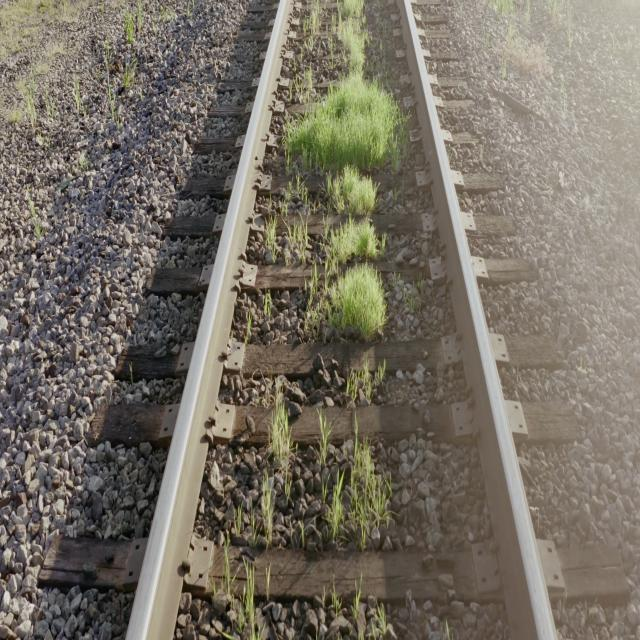Plant: (284, 4, 402, 340), (349, 427, 390, 551), (270, 380, 291, 471), (346, 364, 375, 404), (329, 478, 346, 542), (262, 480, 274, 544), (290, 220, 308, 260), (241, 587, 255, 636), (319, 418, 330, 469), (265, 211, 278, 249)
